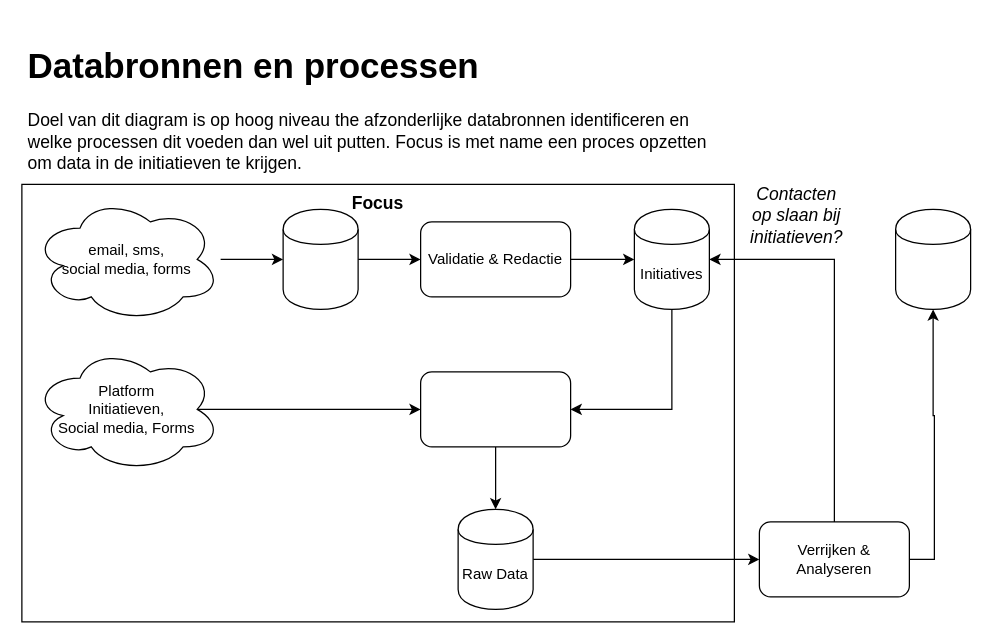
Image size: 993x644. Some labels were removed from this diagram. Each missing label, with the centre of its shape:
"Delven (Geautomatiseerd waar mogelijk)" goes at point (495, 409).
"Statistics" goes at point (932, 258).
"Tips" goes at point (320, 258).
